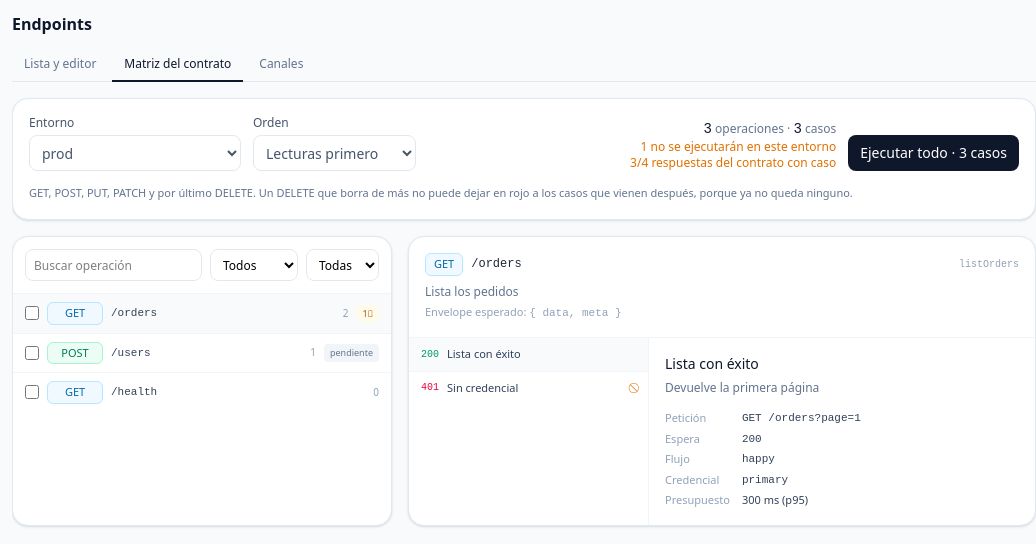
Scenario: MatrixPage › elegir un entorno lo activa y el orden cambia la consulta
Expected: the text "Lista los pedidos" is shown, [425, 282, 519, 300]
Select "staging" in the dropdown labelled "Entorno" at {"x": 135, "y": 153}, box [29, 135, 241, 171]
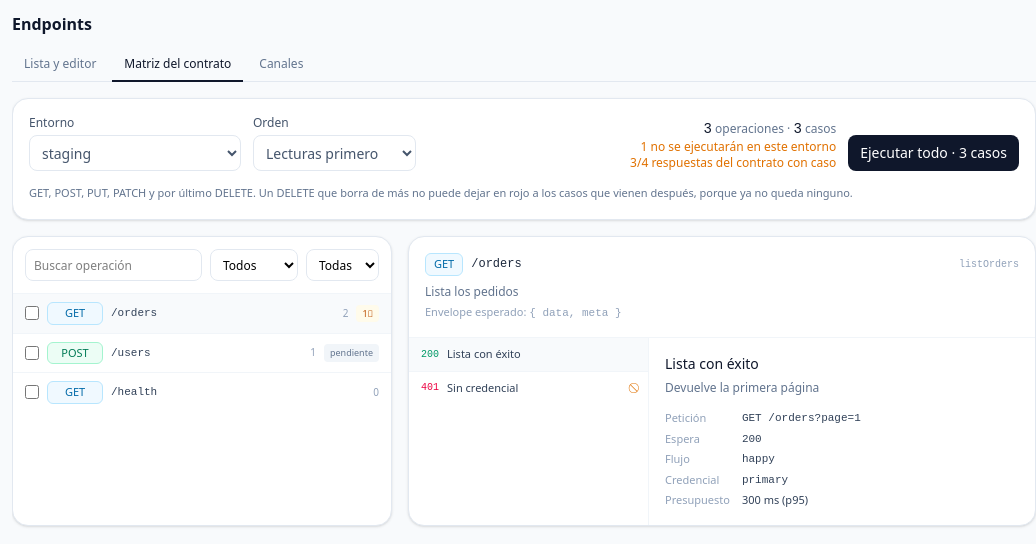
Select "Orden del contrato" in the dropdown labelled "Orden" at {"x": 334, "y": 153}, box [253, 135, 416, 171]
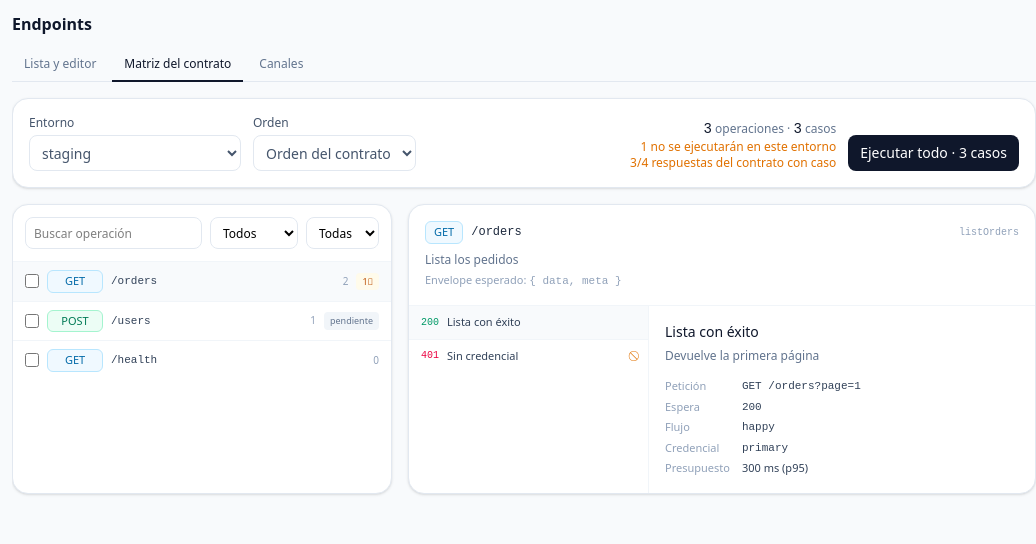
Expected: the text "GET, POST, PUT, PATCH y por último DELETE" is gone
